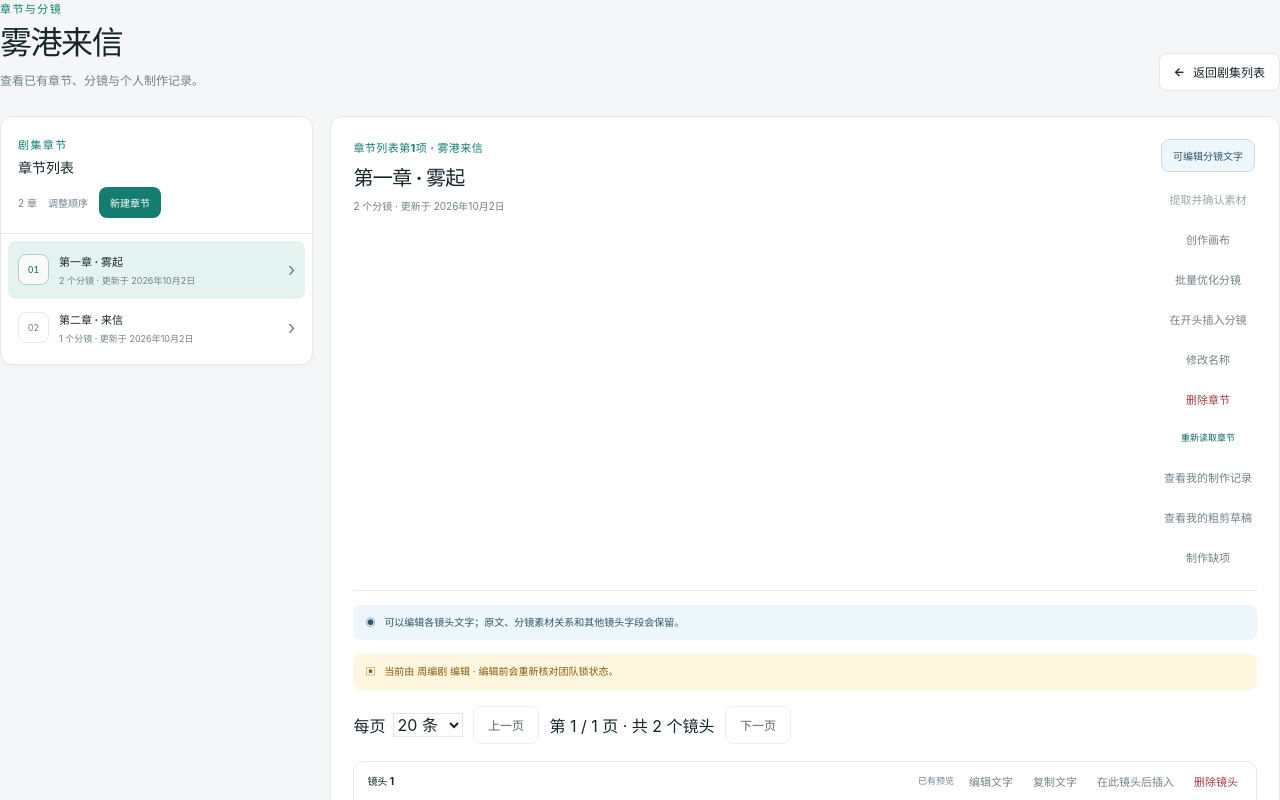
Test: read-only chapter browser › keeps local demo chapter editing available without a remote operation journal
The image size is (1280, 800).
Click the button "编辑文字": (991, 781) [964,765,1018,797]
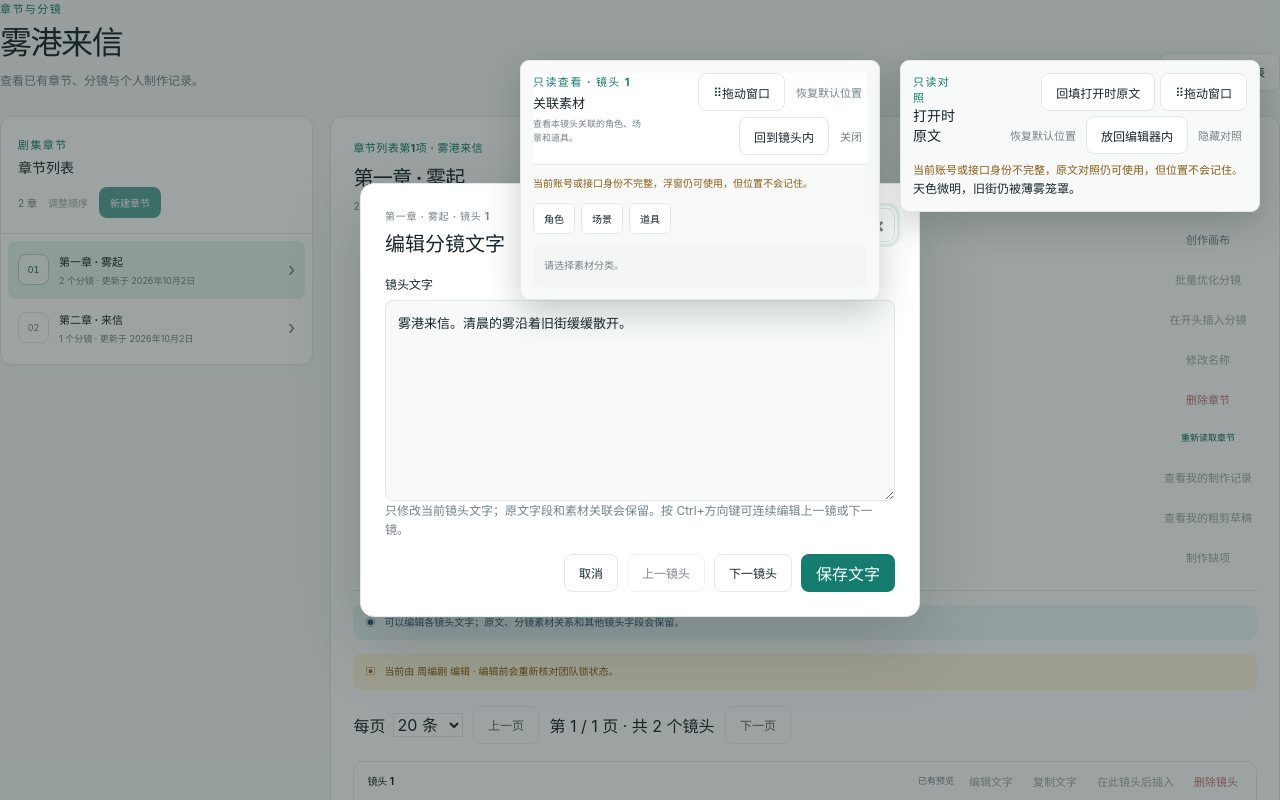
expect the dialog "编辑分镜文字" is shown: met, box [360,183,920,616]
